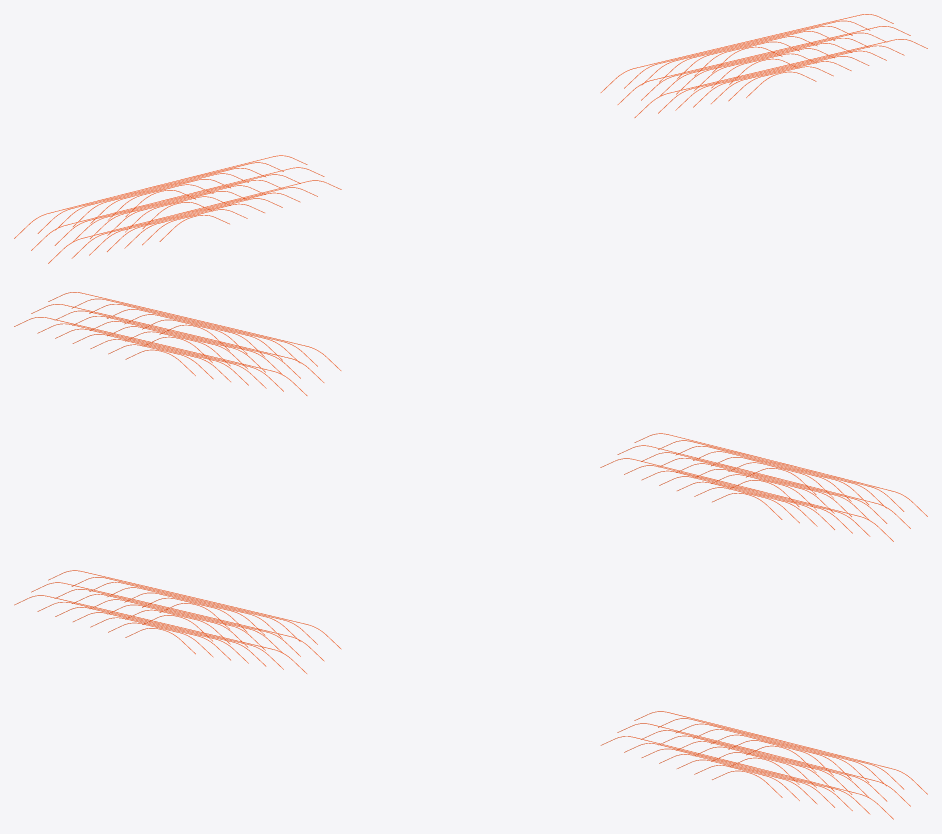
File: steel-web.glb
3 renders of one model, top to bottom at view 1: azimuth 30°, elevation 25°; view 2: azimuth 150°, elevation 25°; view 3: azimuth 330°, elevation 25°, orthographic.
Visible parts, largest first — view 1: 腹板束; view 2: 腹板束; view 3: 腹板束.
Boxes of the visible parts, x1,y1,x2,y2 form: 腹板束: [14, 14, 927, 263]; 腹板束: [14, 292, 927, 541]; 腹板束: [14, 570, 927, 819].
Bounding box in the file's own units: 150 × 4.13 × 10.14.
